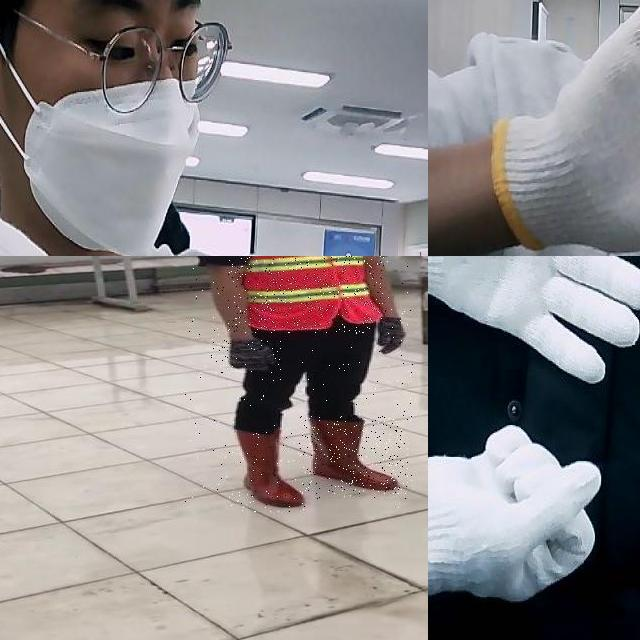BOOTS: (300, 415, 408, 494), (237, 431, 307, 513)
GLOVE: (496, 0, 640, 250), (428, 424, 606, 617), (428, 256, 640, 388), (227, 337, 276, 371), (376, 313, 405, 355)
VEST: (228, 256, 385, 333)
